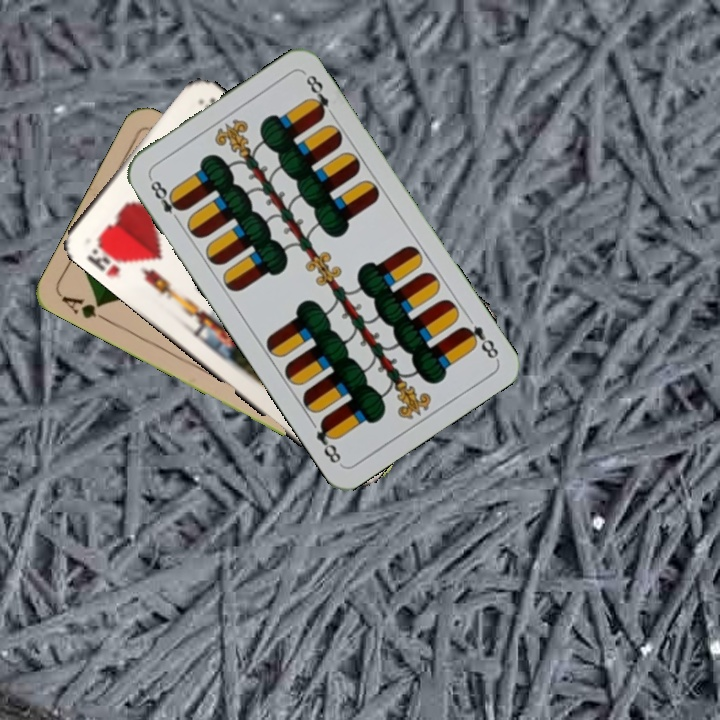E8: (145, 173, 187, 226), (457, 321, 502, 362)
GA: (57, 291, 113, 326)
HK: (82, 235, 128, 280)
